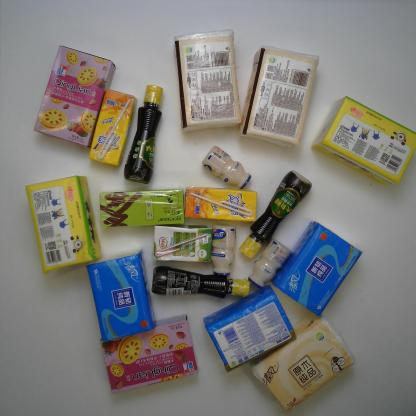Dessert: (30, 41, 117, 149), (98, 311, 200, 395)
Drink: (87, 86, 139, 168), (181, 183, 259, 225)
Instant Drink: (96, 186, 187, 230)
Milk: (245, 236, 294, 292), (152, 221, 214, 265), (199, 143, 254, 190), (208, 223, 237, 278)
Seasoner: (235, 169, 315, 260), (121, 83, 165, 186), (146, 264, 252, 302)
Tissue: (248, 308, 358, 415), (310, 92, 416, 188), (269, 217, 365, 317), (234, 41, 321, 150), (201, 282, 298, 375), (21, 172, 103, 278), (169, 26, 245, 132), (82, 245, 159, 345)
